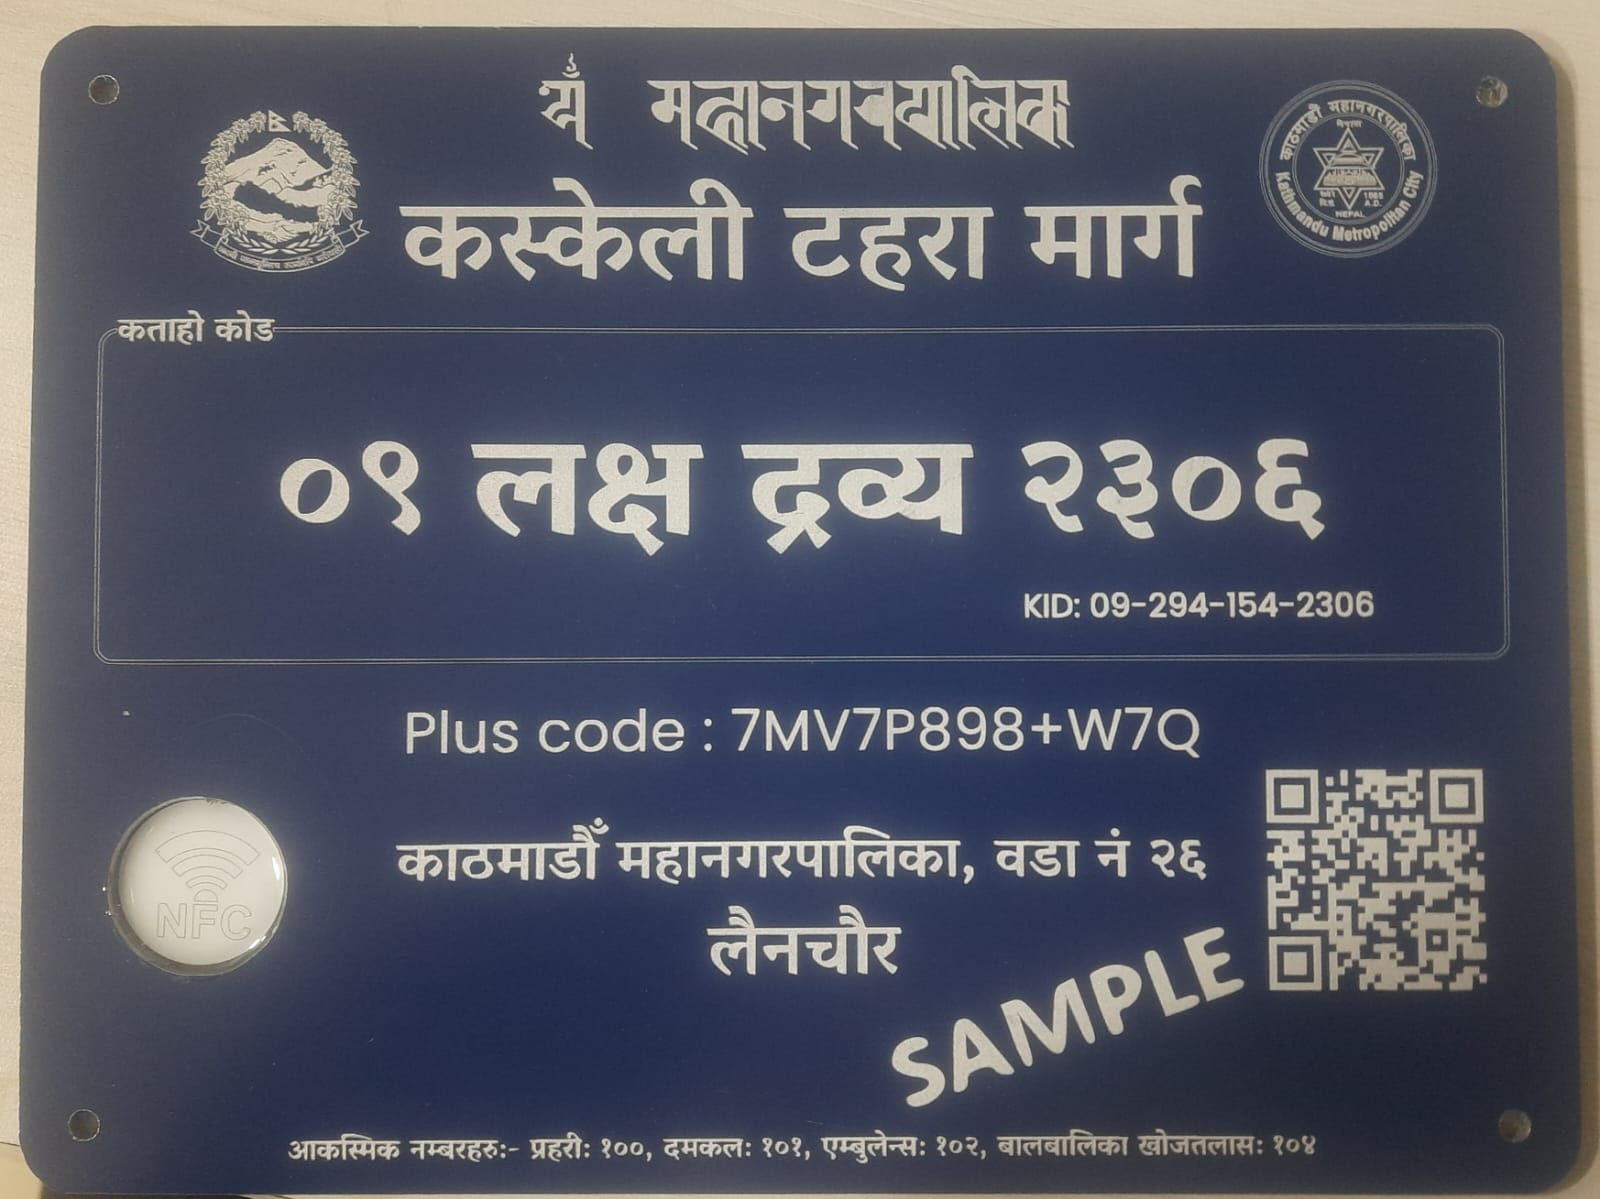Plate: (19, 20, 1596, 1195)
